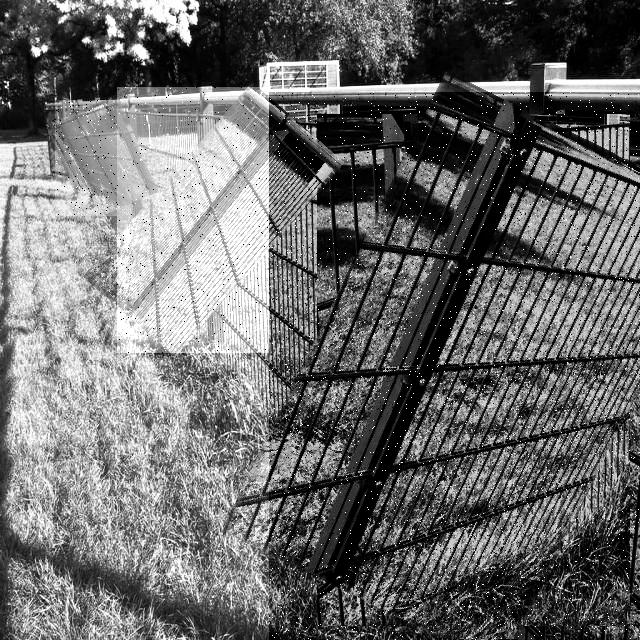fences: (269, 92, 640, 640), (117, 87, 310, 353), (55, 100, 151, 216)
